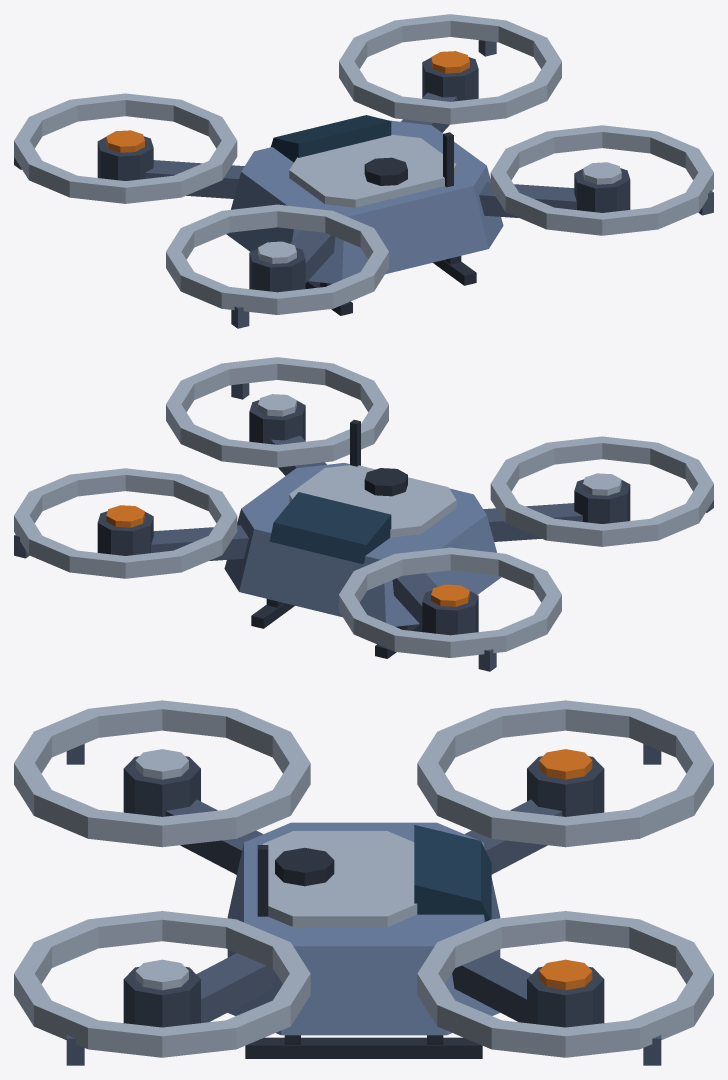
The model's file is drone.glb.
3 views of the same model, one above another, from view 1: azimuth 30°, elevation 25°; view 2: azimuth 150°, elevation 25°; view 3: azimuth 270°, elevation 25° (orthographic). The views are drawn at different scales.
Visible parts, largest first — view 1: drone_hull; view 2: drone_hull; view 3: drone_hull.
Boxes of the visible parts, <box> form: drone_hull: <box>14,14,713,328</box>; drone_hull: <box>14,357,713,671</box>; drone_hull: <box>14,700,713,1065</box>.
Bounding box in the file's own units: 1.34 × 0.3675 × 1.18.
